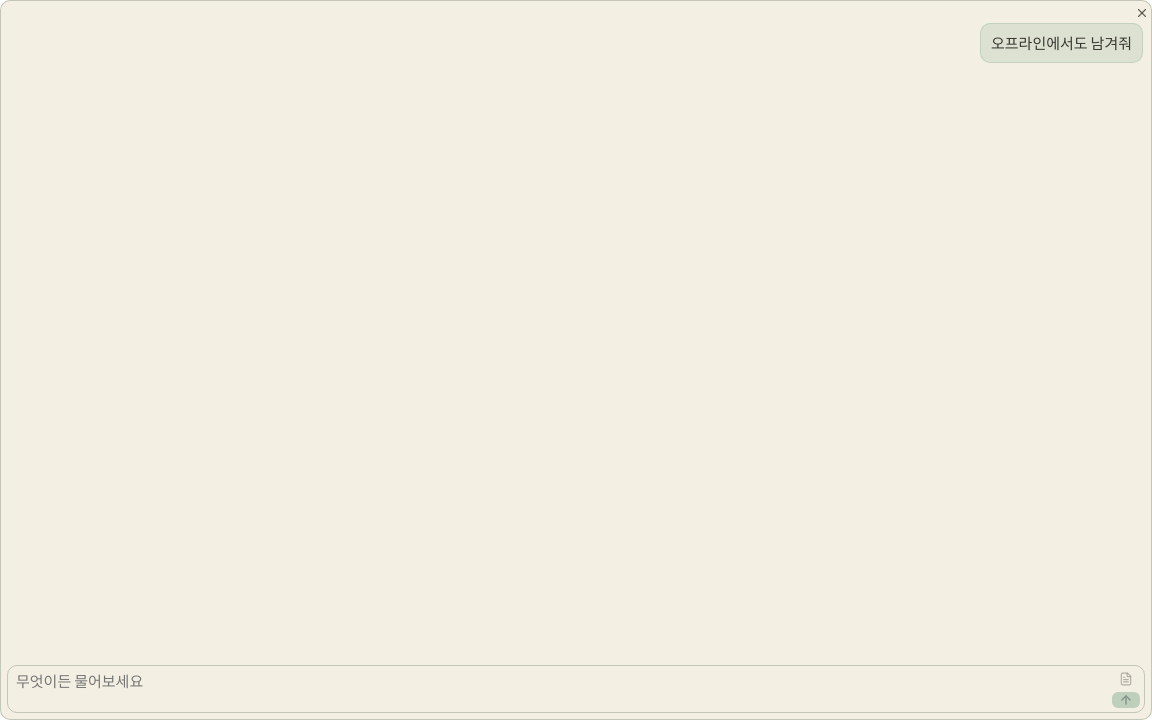
Test: PetChat — conversation close prompt › keeps the prompt open and reports an error when saving fails
Click the button named "닫기": (1138, 14) [1129, 5, 1147, 23]
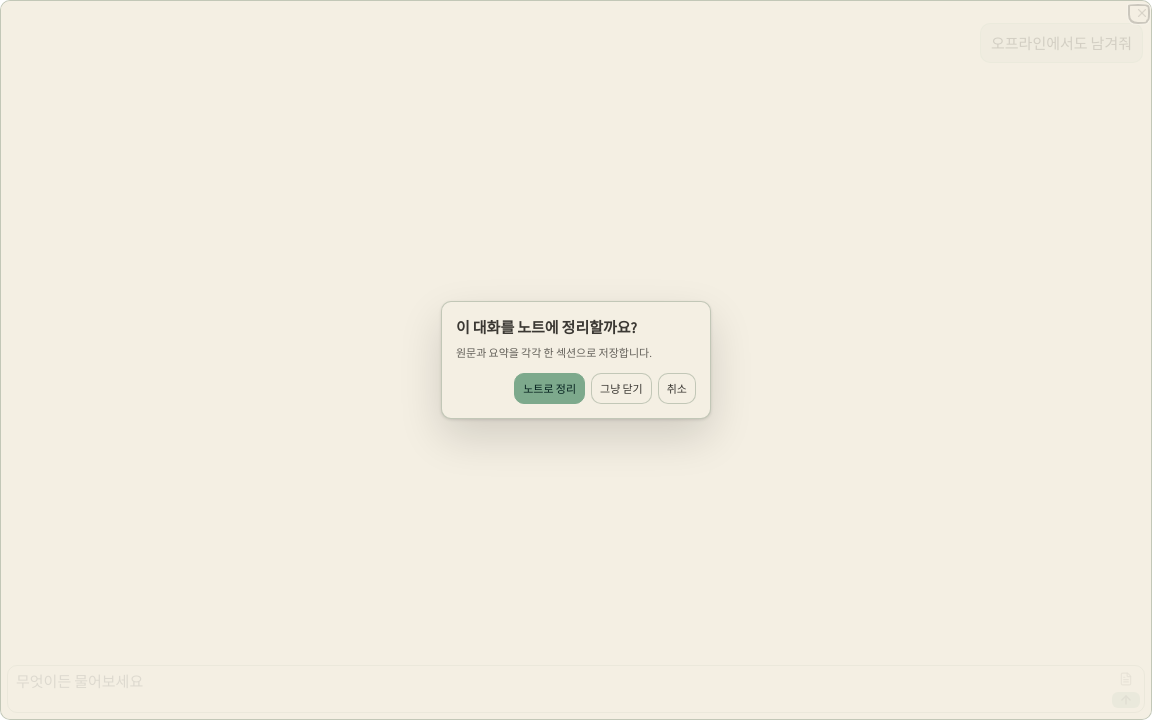
Click the button "노트로 정리": (550, 388) [514, 373, 585, 404]
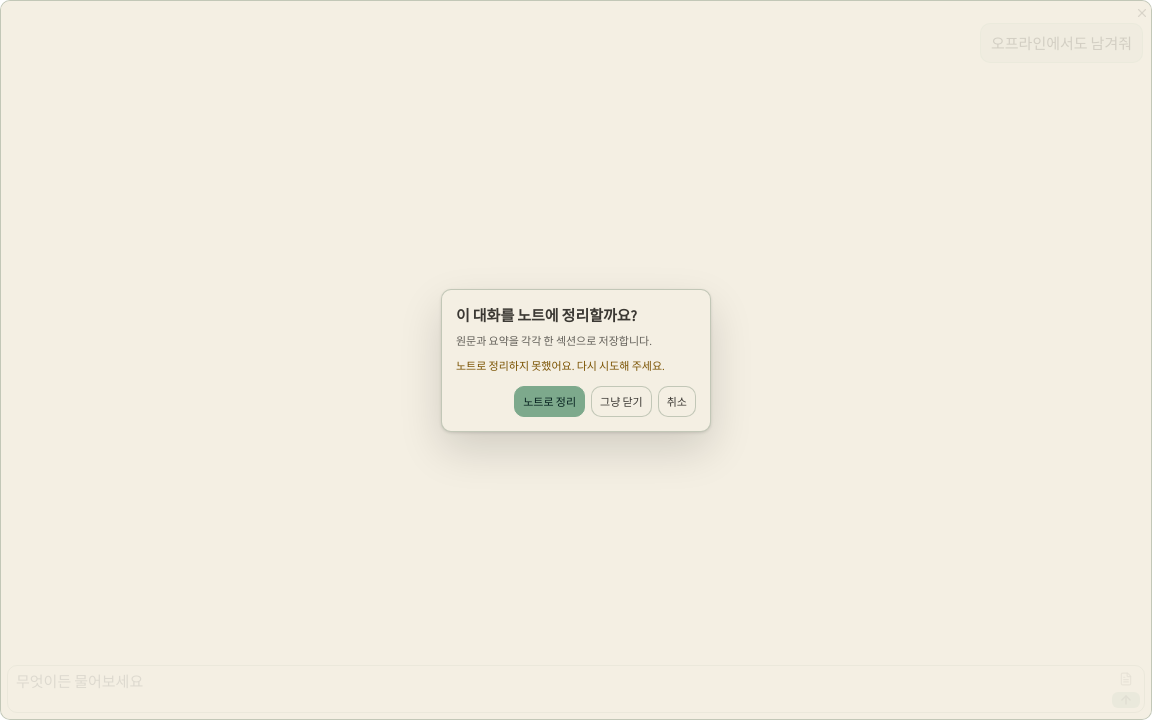
Result: the dialog is shown at [441, 288, 711, 432]
Result: the message shows "노트로 정리하지 못했어요" at [456, 358, 665, 374]
